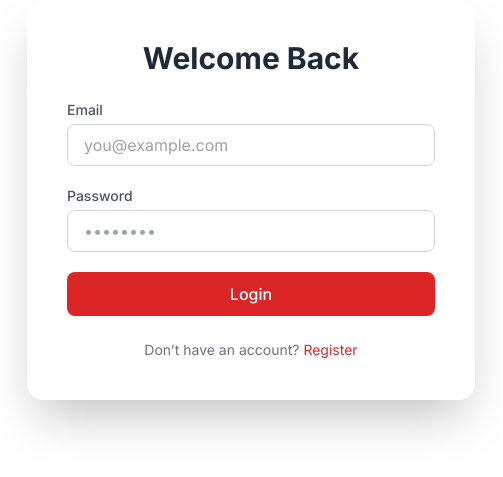
Test: Login Component › shows validation errors when fields are empty
The width and height of the screenshot is (503, 477).
Click the button "Login" at (251,294), box [67,272,435,316]
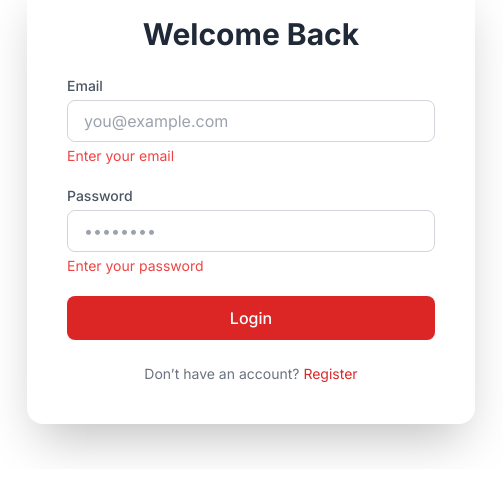
Expected: the text "Enter your email" is shown, [67,147,174,164]
Expected: the text "Enter your password" is shown, [67,257,204,274]
